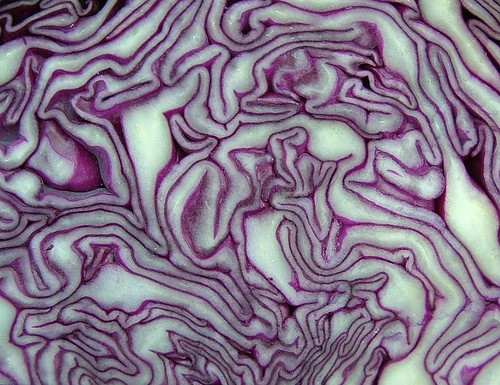cabbage: (2, 3, 499, 384)
